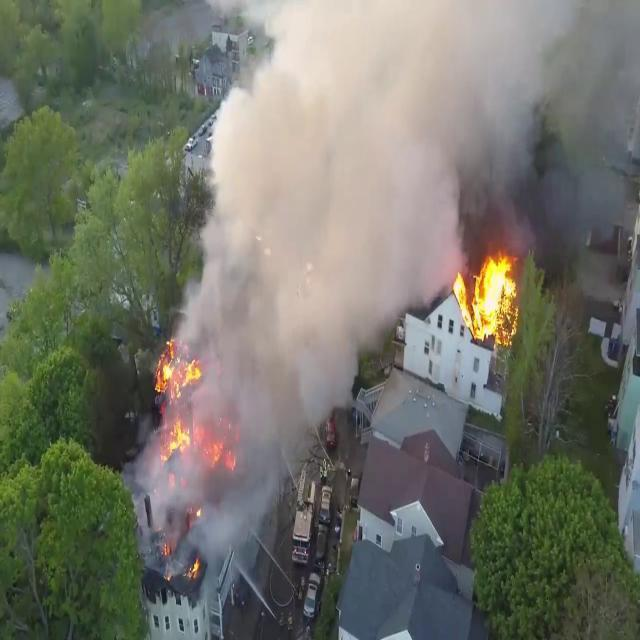Fire: (451, 248, 523, 345), (152, 336, 204, 463)
Smoke: (165, 0, 639, 268), (134, 286, 340, 574)
